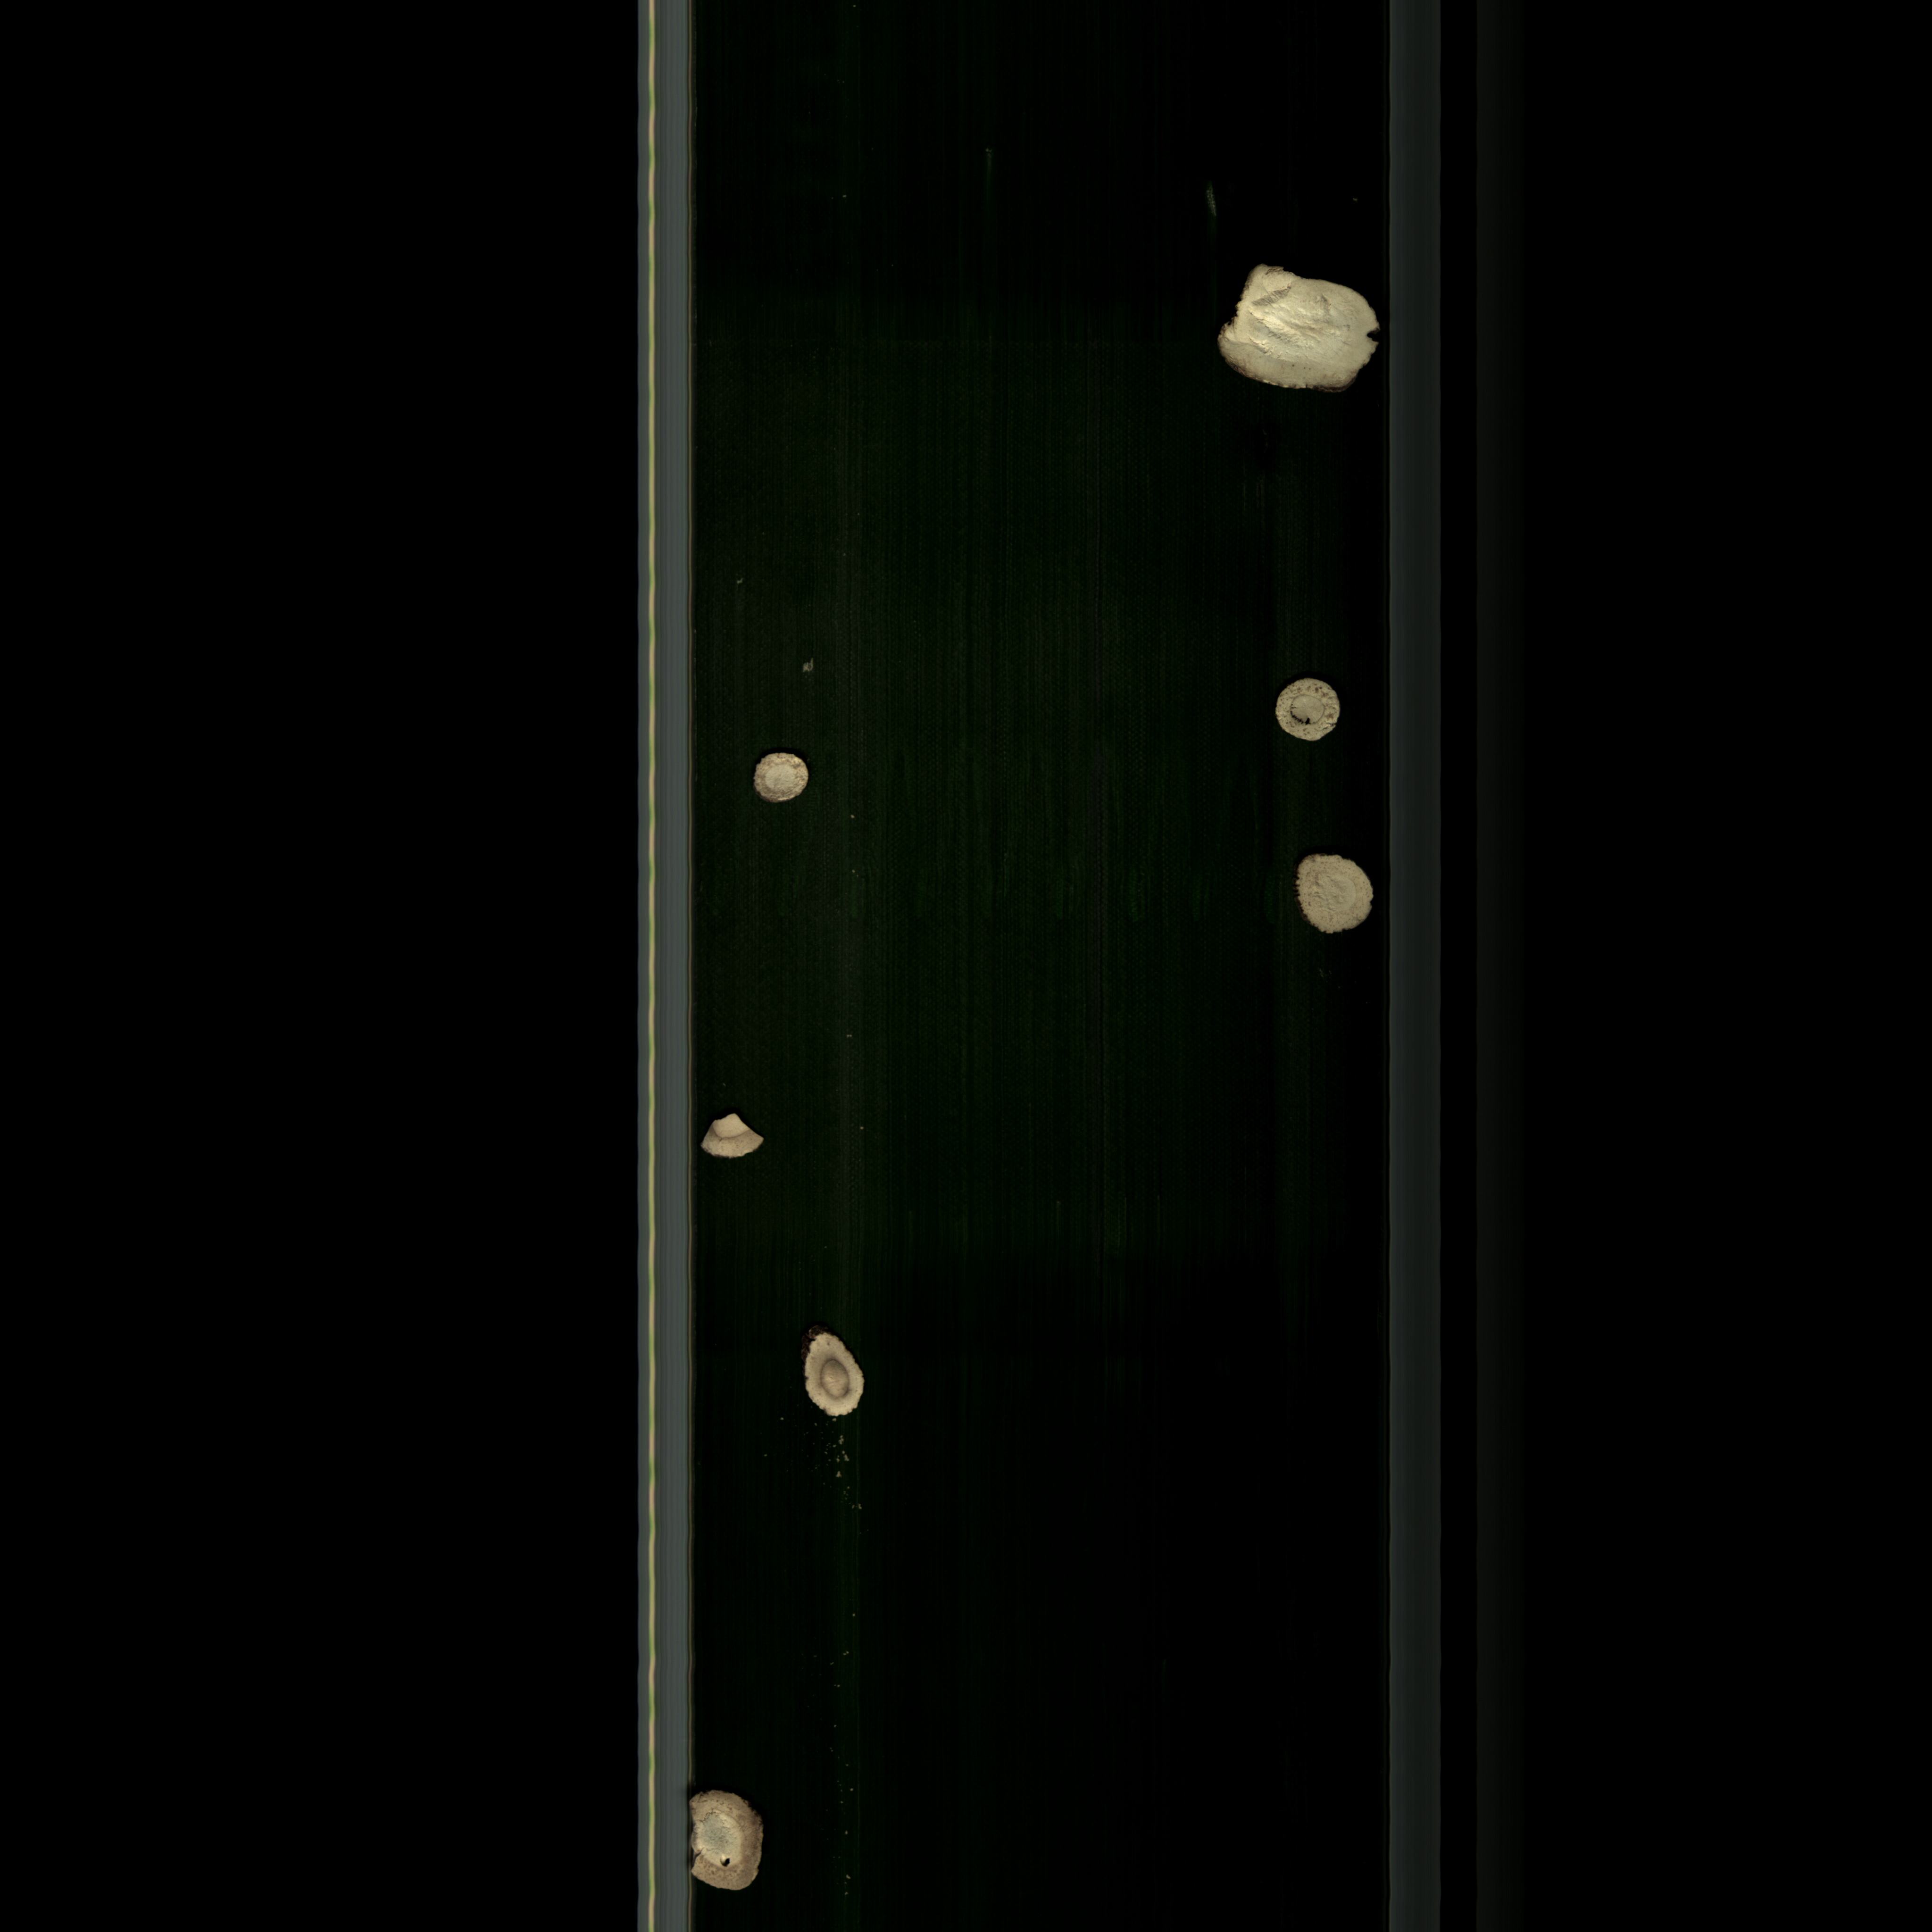debris: (690, 1100, 778, 1175)
distortion: (1210, 253, 1378, 395)
hole: (1260, 669, 1366, 759)
moldy: (681, 1787, 787, 1900), (794, 1322, 883, 1433)
